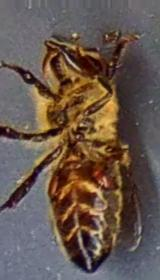varroa_mite: (85, 152, 126, 200), (38, 166, 66, 200)
